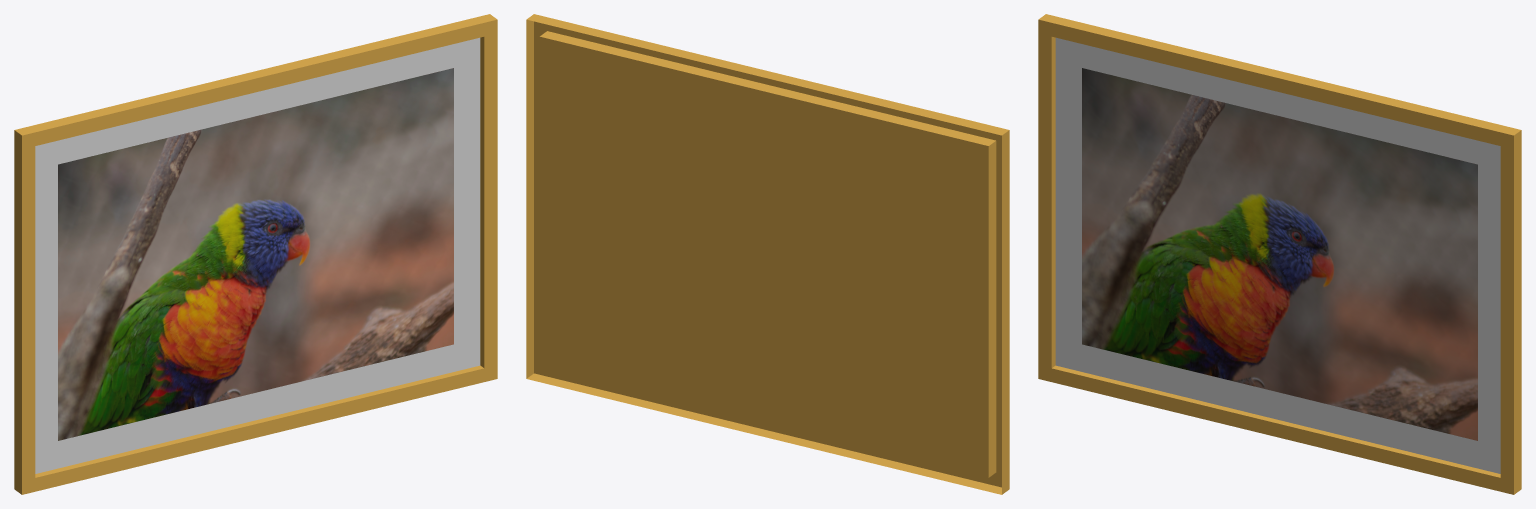
File: parrot.fbx
The picture shows the model from 3 angles, left to right: view 1: azimuth 30°, elevation 25°; view 2: azimuth 150°, elevation 25°; view 3: azimuth 330°, elevation 25°; orthographic projection.
Visible parts, largest first — view 1: Image, Background, Frame; view 2: Frame; view 3: Image, Background, Frame.
Part boxes in pixels (left/top/right/bottom): Image: left=58, top=68, right=453, bottom=440; Background: left=35, top=37, right=480, bottom=473; Frame: left=14, top=14, right=497, bottom=494; Frame: left=526, top=14, right=1009, bottom=494; Image: left=1082, top=68, right=1477, bottom=440; Background: left=1055, top=37, right=1500, bottom=473; Frame: left=1038, top=14, right=1521, bottom=494.
Bounding box in the file's own units: 360 × 260 × 10.
